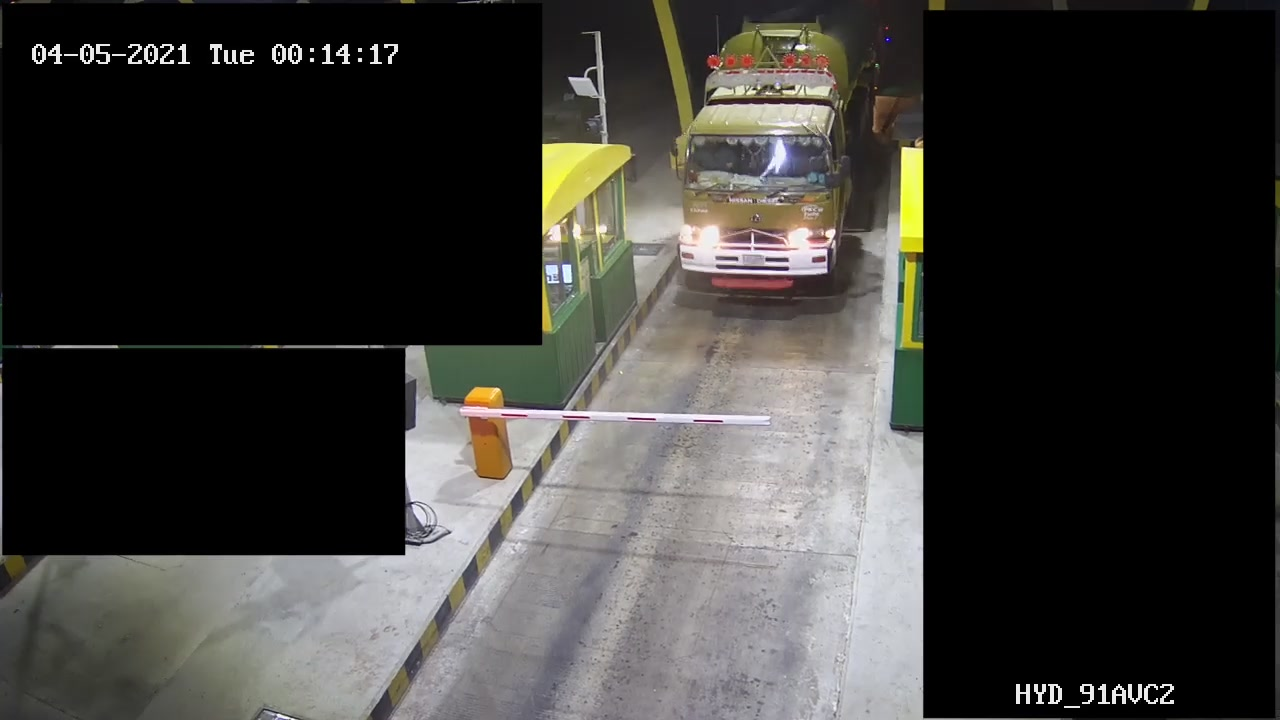F6: (664, 1, 881, 315)
